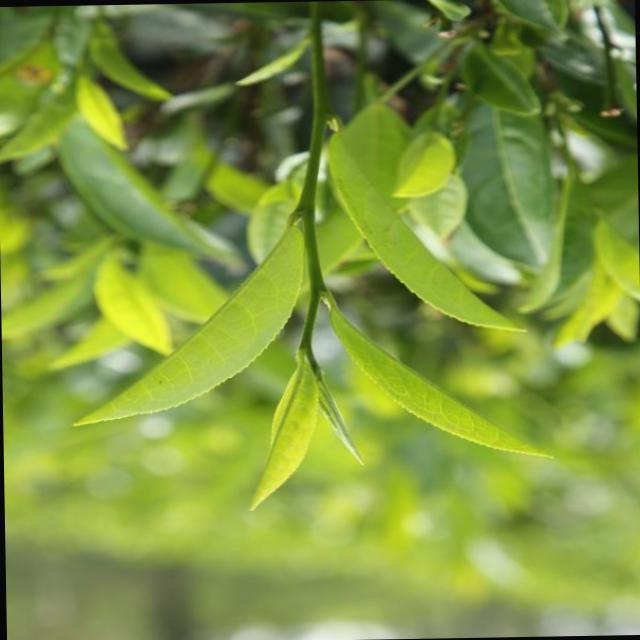Stem: (304, 247, 324, 293)
